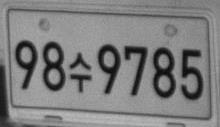5: (180, 48, 203, 101)
7: (124, 44, 147, 96)
8: (151, 46, 177, 98), (41, 40, 66, 91)
9: (13, 39, 39, 89), (96, 43, 121, 95)
수: (69, 51, 92, 92)
